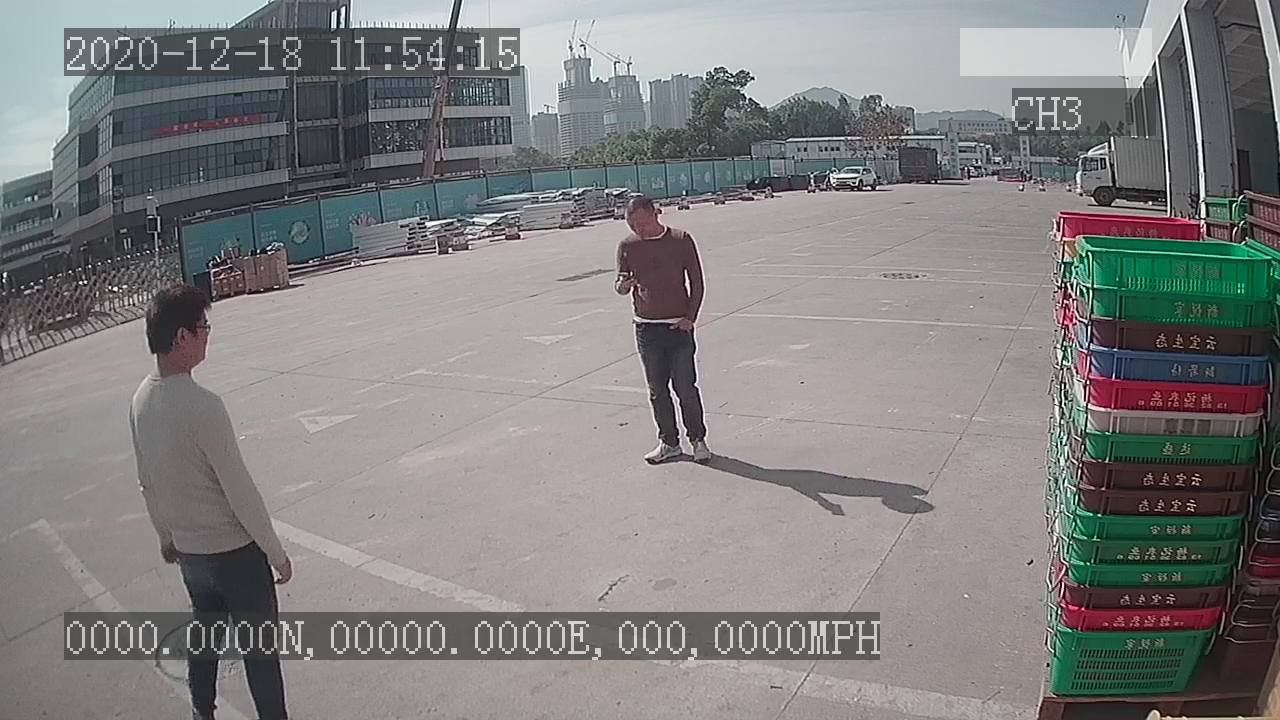person: (608, 192, 720, 472)
